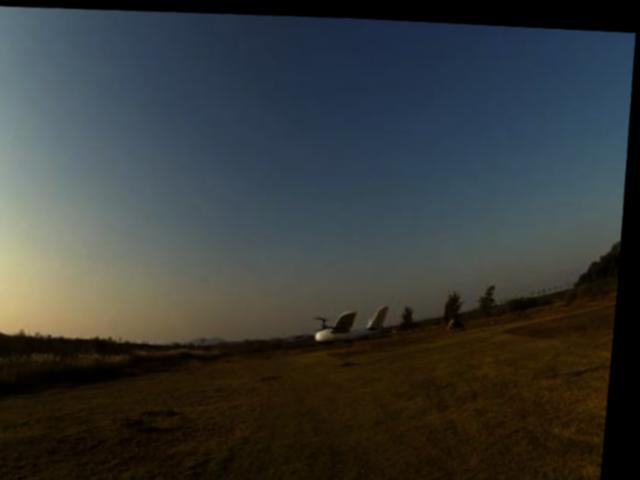uav: (305, 291, 406, 358)
